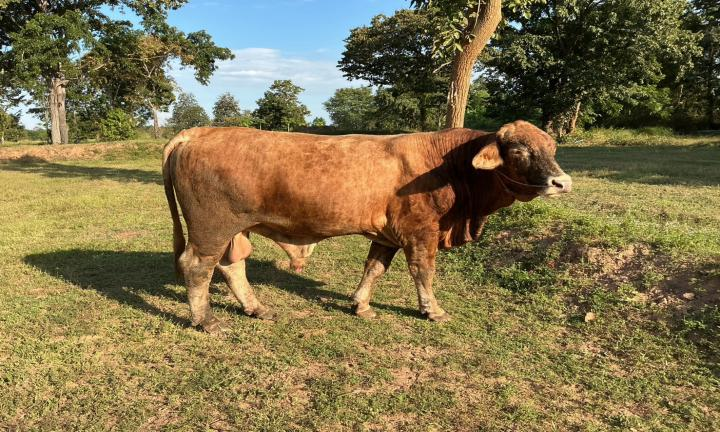Charolais: (162, 120, 571, 332)
